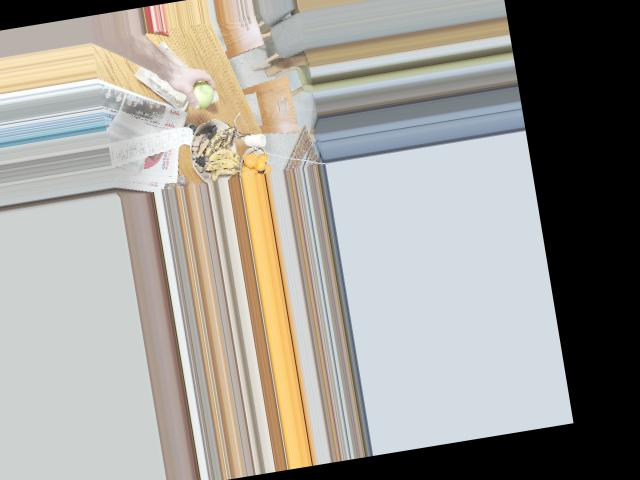apple: (187, 73, 217, 108)
